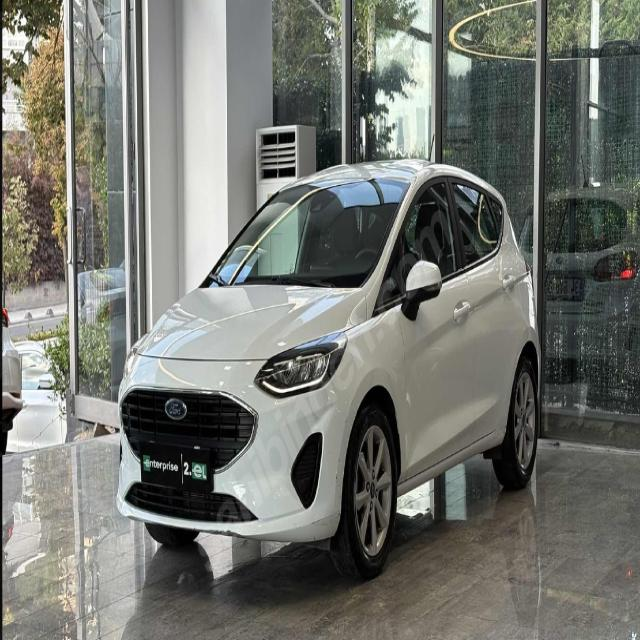ford: (163, 394, 189, 424)
